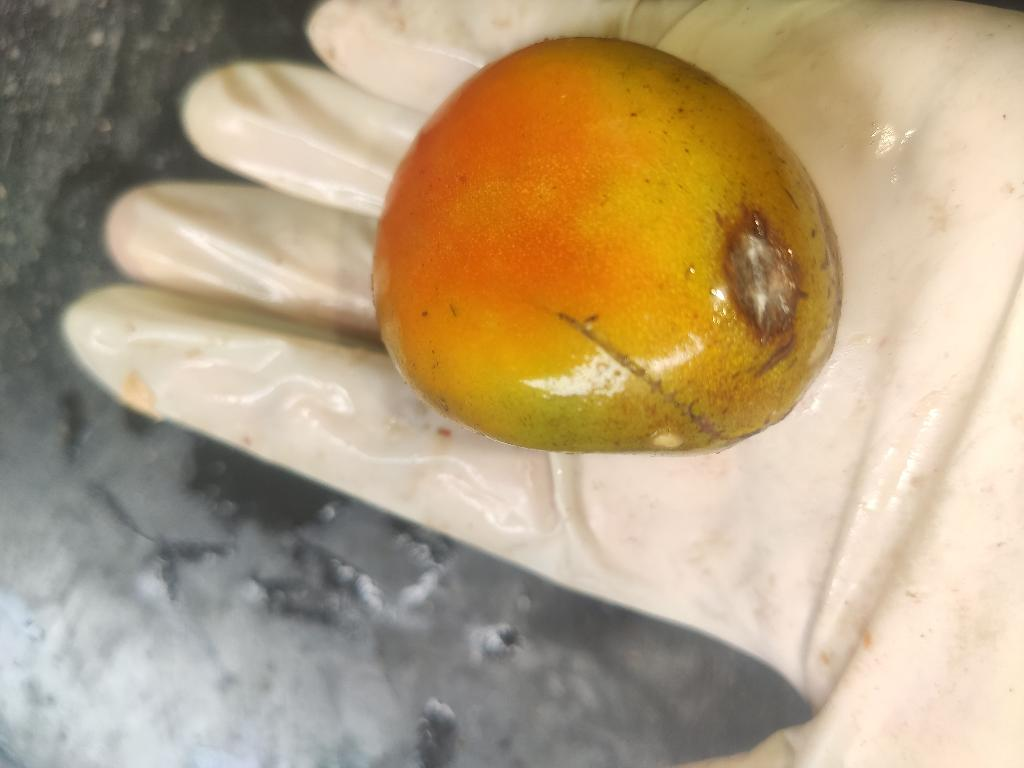rot_mold_decay: (727, 228, 795, 339)
surface_damage: (556, 312, 766, 446), (755, 336, 796, 376)
tomato: (372, 38, 841, 452)
